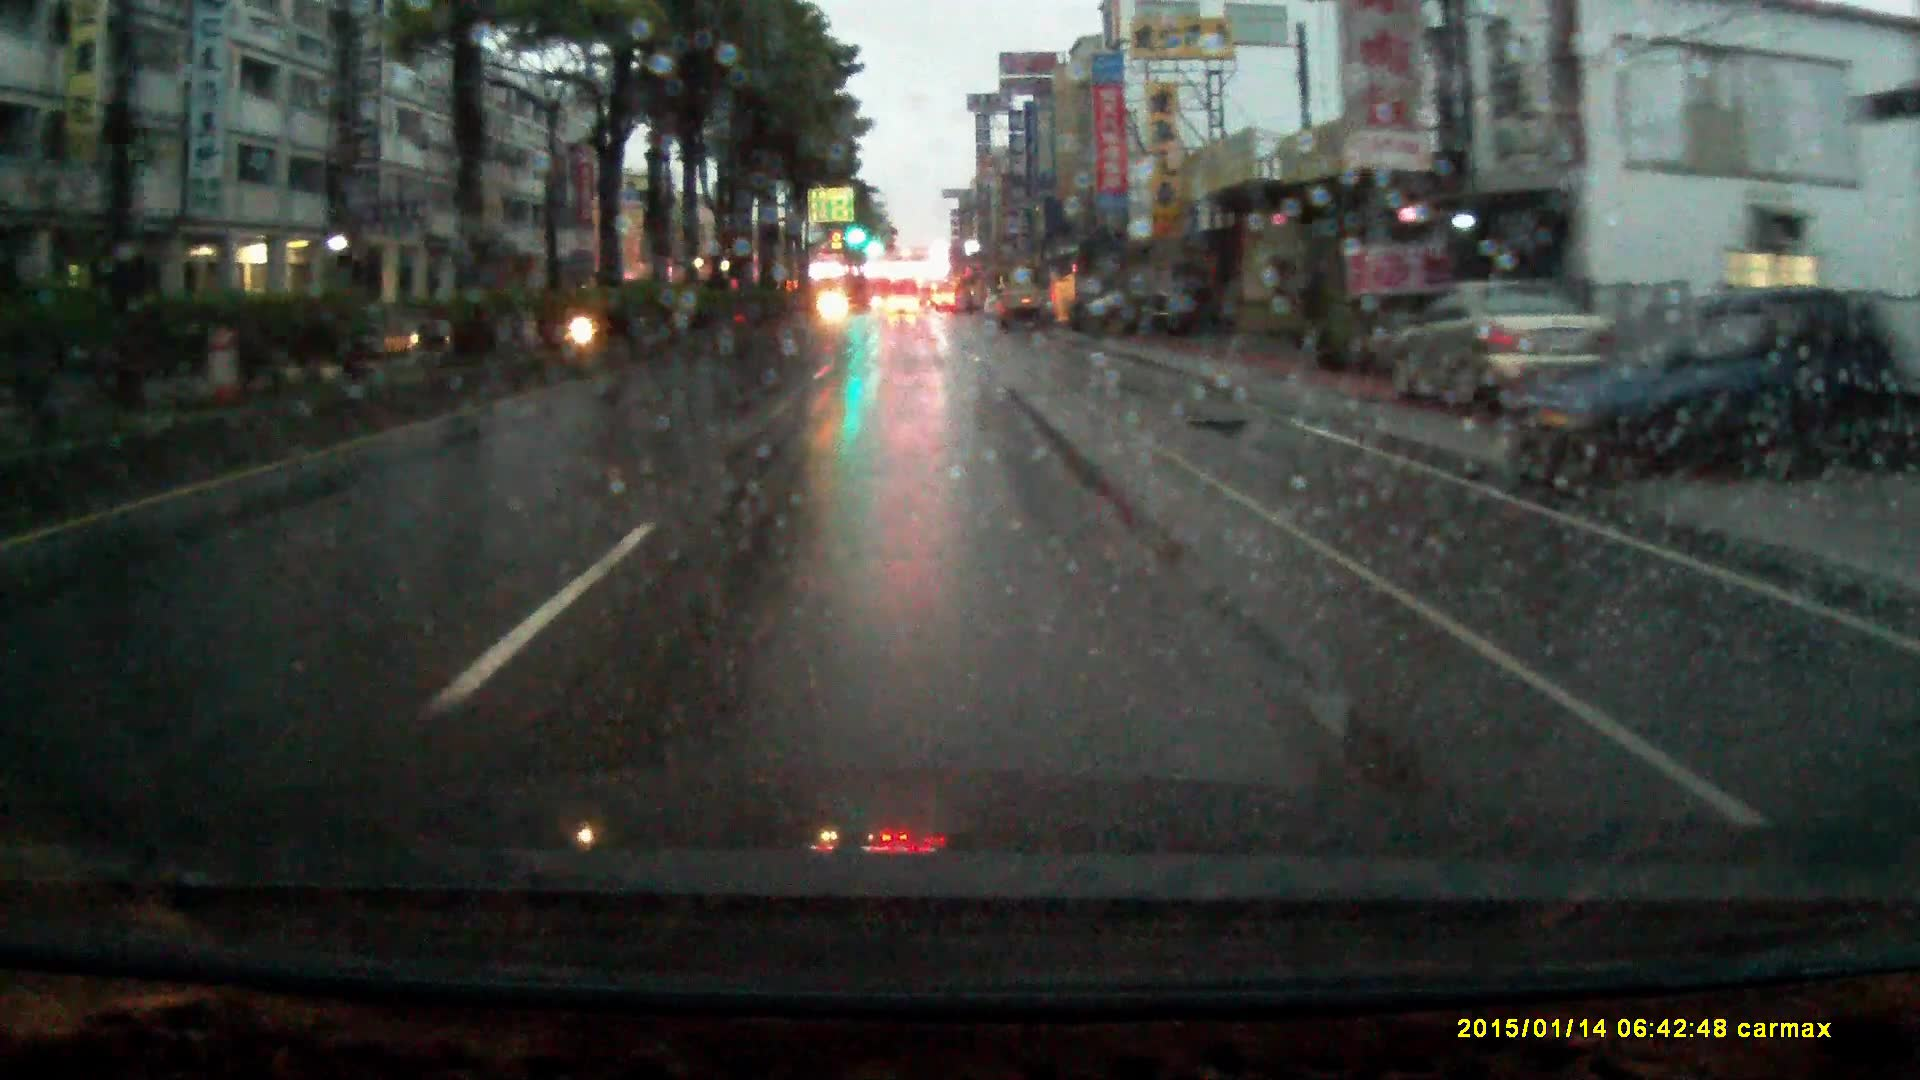vehicle: (1509, 289, 1900, 491), (1396, 282, 1615, 411), (1069, 286, 1232, 338), (996, 284, 1047, 334), (886, 295, 919, 318)
